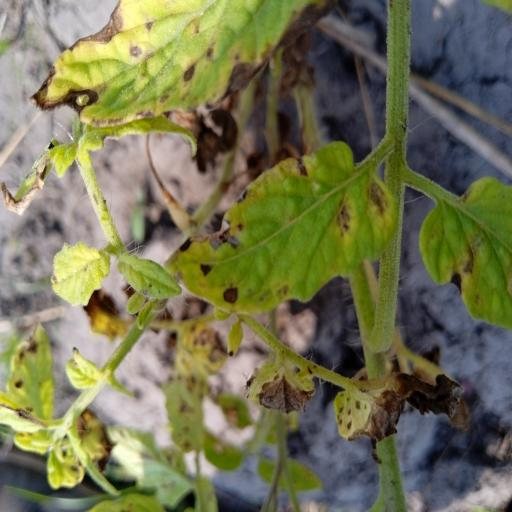Tomato_Brown_Spots: (8, 0, 321, 214), (164, 140, 403, 320)
